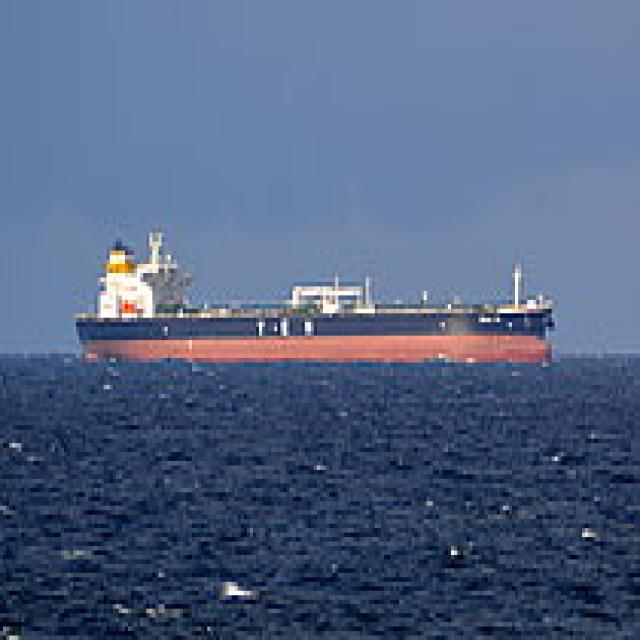Tanker: (70, 224, 549, 349)
